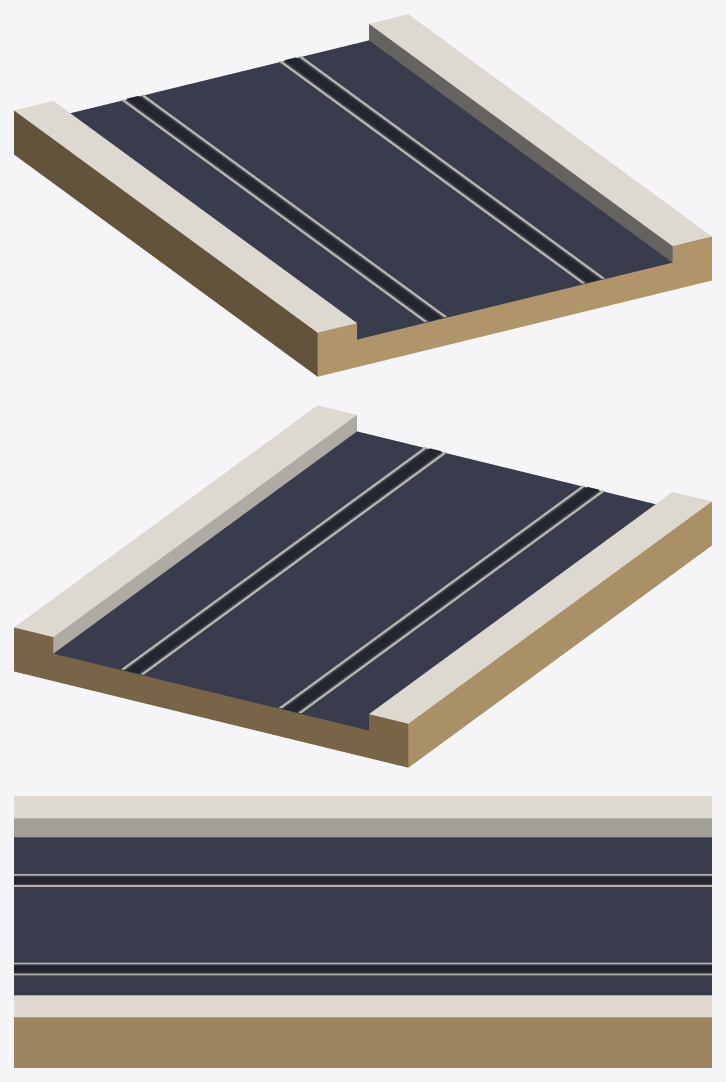
File: Track_2L_Straight4.fbx
3 views of the same model, one above another, from view 1: azimuth 30°, elevation 25°; view 2: azimuth 150°, elevation 25°; view 3: azimuth 270°, elevation 25° (orthographic). The views are drawn at different scales.
Visible parts, largest first — view 1: Track_2L_Straight4; view 2: Track_2L_Straight4; view 3: Track_2L_Straight4.
Part boxes in pixels (bbox=[...]): Track_2L_Straight4: bbox=[14, 14, 711, 376]; Track_2L_Straight4: bbox=[14, 405, 711, 767]; Track_2L_Straight4: bbox=[14, 796, 711, 1067].
Size of the model in its own units: 3 by 0.32 by 4.
